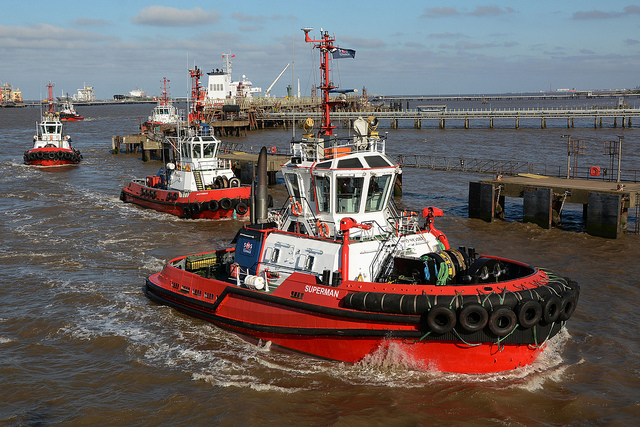tug_boat: (144, 66, 584, 393), (126, 106, 241, 222), (25, 93, 83, 170), (61, 88, 88, 122)
